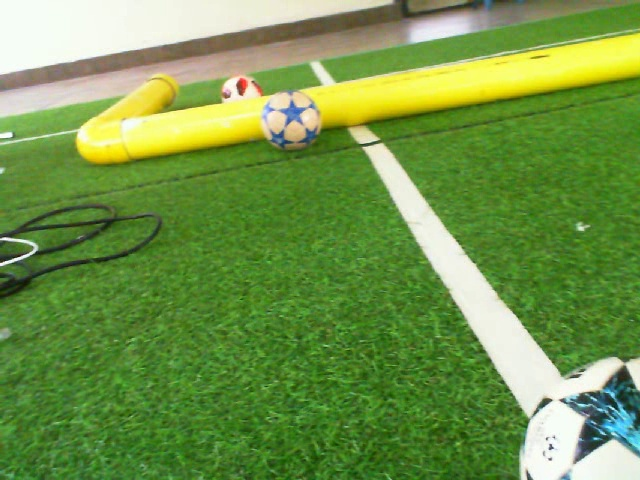ball: (518, 351, 640, 480), (258, 87, 323, 155), (220, 74, 258, 104)
